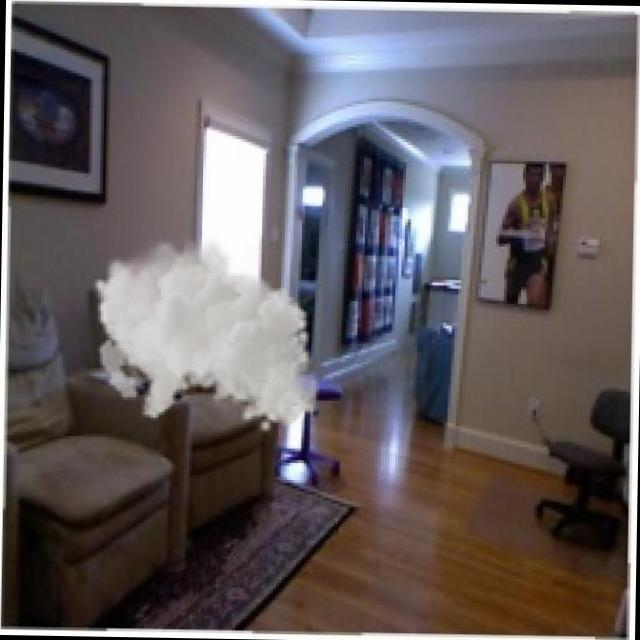Smoke: (89, 231, 321, 435)
